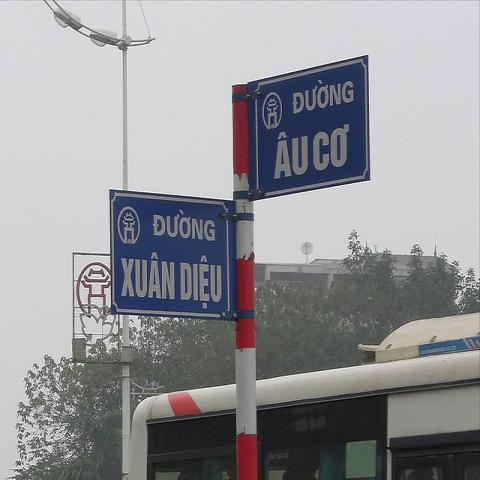bus: (127, 350, 478, 474)
